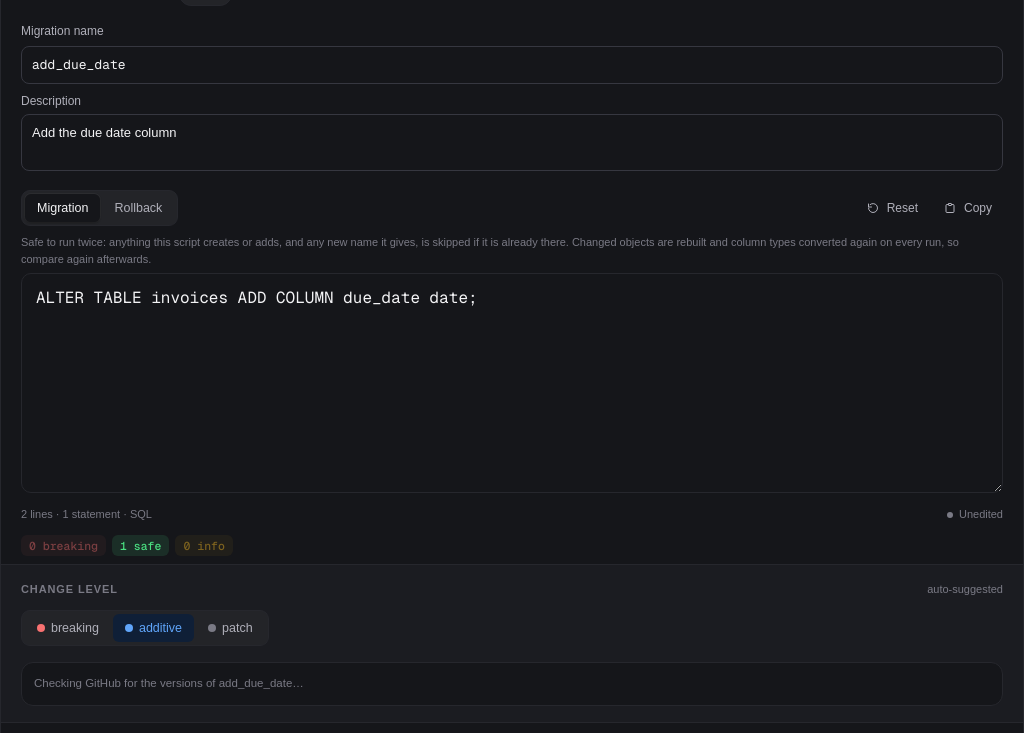
Test: the script name › stops looking up a version it could not use
The width and height of the screenshot is (1024, 733).
Replace the text in the field labelled "Migration name" with "@@@" at (512, 65), box [21,46,1003,84]
(page scrolled)
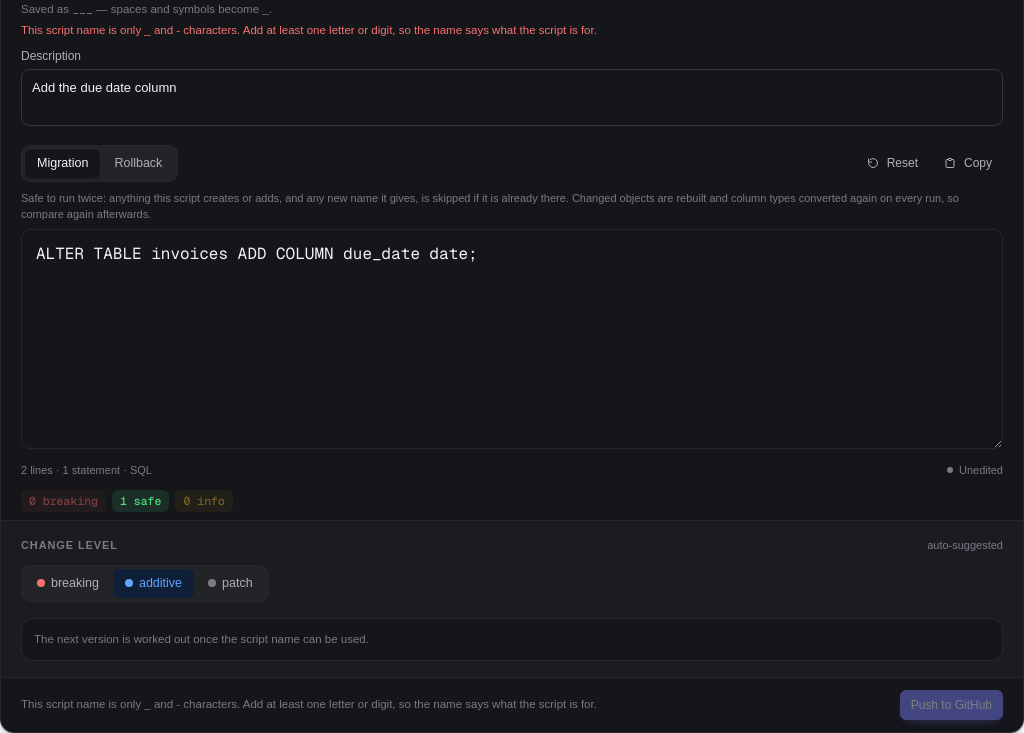
Expected: the text "The next version is worked out once the script name can be used." is shown, [34,633,369,645]
